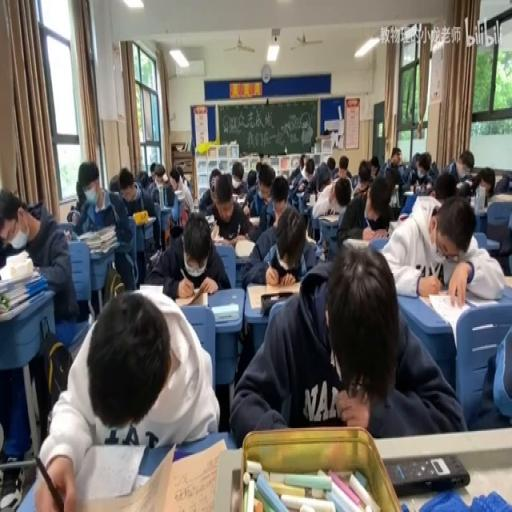calculator: (423, 291, 483, 340), (246, 282, 301, 312), (464, 283, 506, 306), (210, 301, 238, 323), (172, 289, 206, 307), (234, 236, 256, 258), (344, 235, 370, 250), (399, 192, 417, 213), (139, 283, 165, 294), (387, 218, 402, 234), (318, 213, 340, 222), (138, 215, 156, 226), (491, 193, 512, 202), (232, 193, 246, 205), (314, 244, 326, 258), (210, 222, 219, 240), (306, 229, 316, 245), (486, 238, 499, 250), (247, 215, 259, 226), (205, 213, 215, 226), (505, 274, 512, 292), (174, 188, 184, 199), (306, 196, 316, 206), (296, 188, 306, 196), (404, 189, 414, 196), (398, 212, 408, 219)
paper: (230, 242, 460, 442), (35, 287, 220, 511), (380, 192, 502, 303), (0, 188, 78, 324), (71, 161, 133, 294), (145, 208, 228, 297), (239, 193, 316, 286), (469, 316, 511, 430), (334, 170, 394, 248), (204, 174, 254, 248), (130, 165, 162, 245), (485, 196, 511, 273), (440, 148, 475, 190), (404, 148, 435, 192), (167, 165, 192, 219), (378, 151, 404, 202), (472, 165, 495, 199), (298, 156, 318, 195), (332, 155, 350, 182), (493, 170, 511, 194), (26, 198, 44, 219), (208, 168, 221, 195), (230, 164, 244, 186), (66, 204, 80, 224), (369, 155, 379, 182), (135, 168, 147, 189), (358, 165, 370, 186), (245, 168, 256, 190), (109, 172, 120, 192), (289, 174, 299, 189), (149, 161, 156, 179), (318, 182, 328, 193), (255, 160, 262, 174)
person: (384, 452, 470, 494)
